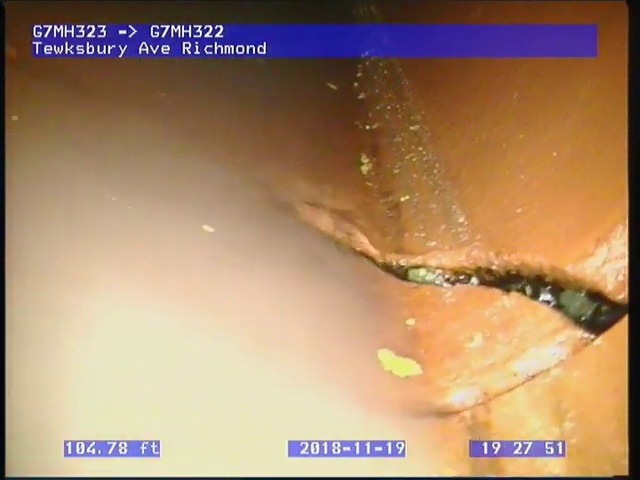crack: (343, 240, 628, 350)
